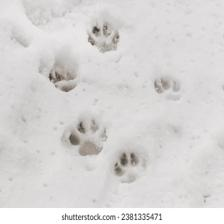dog: (62, 119, 111, 159), (109, 147, 145, 184), (86, 19, 122, 55)
